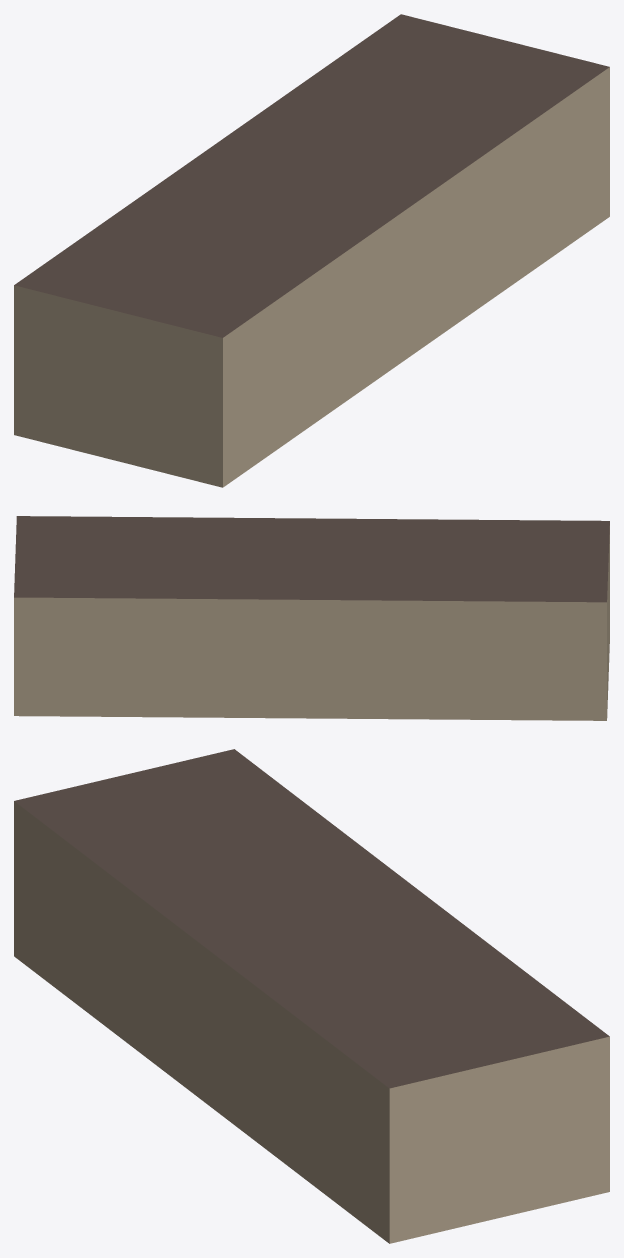
The picture shows the model from 3 angles, top to bottom: view 1: azimuth 30°, elevation 25°; view 2: azimuth 150°, elevation 25°; view 3: azimuth 270°, elevation 25°; orthographic projection. The views are drawn at different scales.
Parts seen in each view (by area): view 1: HP-w859447935; view 2: HP-w859447935; view 3: HP-w859447935.
Part boxes in pixels (x1,y1,x2,y2): HP-w859447935: (14, 14, 609, 487); HP-w859447935: (14, 516, 609, 720); HP-w859447935: (14, 749, 609, 1243).
Bounding box in the file's own units: 42.17 × 9 × 31.29.
